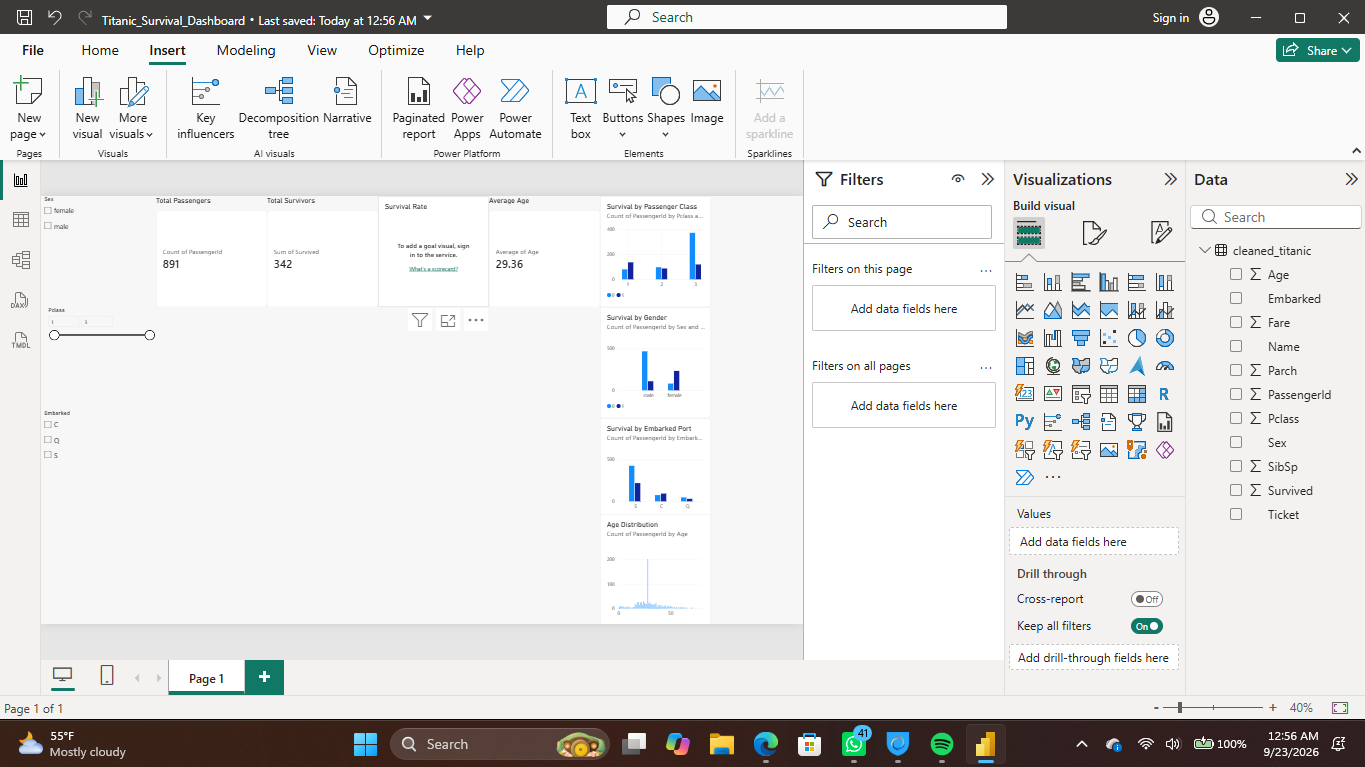

Layout of this report page (visuals, bound fields, positions):
{"tool":"powerbi","page":{"name":"Page 1","canvas":[1920,1080],"ordinal":0},"visuals":[{"type":"cardVisual","title":"Total Passengers","fields":{"Data":["CountNonNull(cleaned_titanic.PassengerId)"]},"box":[289.8,0,280,280],"z":0},{"type":"cardVisual","title":"Total Survivors","fields":{"Data":["Sum(cleaned_titanic.Survived)"]},"box":[569.4,0,280,280],"z":1},{"type":"scorecard","title":"Survival Rate","box":[849.1,0,280,280],"z":2},{"type":"cardVisual","title":"Average Age","fields":{"Data":["Avg(cleaned_titanic.Age)"]},"box":[1128.8,0,280,280],"z":3},{"type":"clusteredColumnChart","title":"Survival by Gender","fields":{"Category":["cleaned_titanic.Sex"],"Series":["cleaned_titanic.Survived"],"Y":["CountNonNull(cleaned_titanic.PassengerId)"]},"box":[1408.5,279.7,280,280],"z":4},{"type":"clusteredColumnChart","title":"Survival by Passenger Class","fields":{"Category":["cleaned_titanic.Pclass"],"Series":["cleaned_titanic.Survived"],"Y":["CountNonNull(cleaned_titanic.PassengerId)"]},"box":[1408.5,0,280,280],"z":5},{"type":"clusteredColumnChart","title":"Survival by Embarked Port","fields":{"Category":["cleaned_titanic.Embarked"],"Series":["cleaned_titanic.Survived"],"Y":["CountNonNull(cleaned_titanic.PassengerId)"]},"box":[1408.5,559.4,280,280],"z":6},{"type":"columnChart","title":"Age Distribution","fields":{"Category":["cleaned_titanic.Age"],"Y":["CountNonNull(cleaned_titanic.PassengerId)"]},"box":[1408.5,801.3,280,280],"z":7},{"type":"slicer","fields":{"Values":["cleaned_titanic.Sex"]},"box":[0,0,280,280],"z":8},{"type":"slicer","fields":{"Values":["cleaned_titanic.Pclass"]},"box":[10.1,279.7,280,220],"z":9},{"type":"slicer","fields":{"Values":["cleaned_titanic.Embarked"]},"box":[0,539.2,279,220],"z":10}]}

Visuals, with their boxes on the page's 1920x1080 design canvas (x1, y1, x2, y2). These are canvas units, not pixel positions in the 1365x767 screenshot, which may show the page scaled, cropped or inside an application window:
"Total Passengers" cardVisual: select_region(290, 0, 570, 280)
"Total Survivors" cardVisual: select_region(569, 0, 849, 280)
"Survival Rate" scorecard: select_region(849, 0, 1129, 280)
"Average Age" cardVisual: select_region(1129, 0, 1409, 280)
"Survival by Gender" clusteredColumnChart: select_region(1408, 280, 1688, 560)
"Survival by Passenger Class" clusteredColumnChart: select_region(1408, 0, 1688, 280)
"Survival by Embarked Port" clusteredColumnChart: select_region(1408, 559, 1688, 839)
"Age Distribution" columnChart: select_region(1408, 801, 1688, 1081)
slicer - cleaned_titanic.Sex: select_region(0, 0, 280, 280)
slicer - cleaned_titanic.Pclass: select_region(10, 280, 290, 500)
slicer - cleaned_titanic.Embarked: select_region(0, 539, 279, 759)
